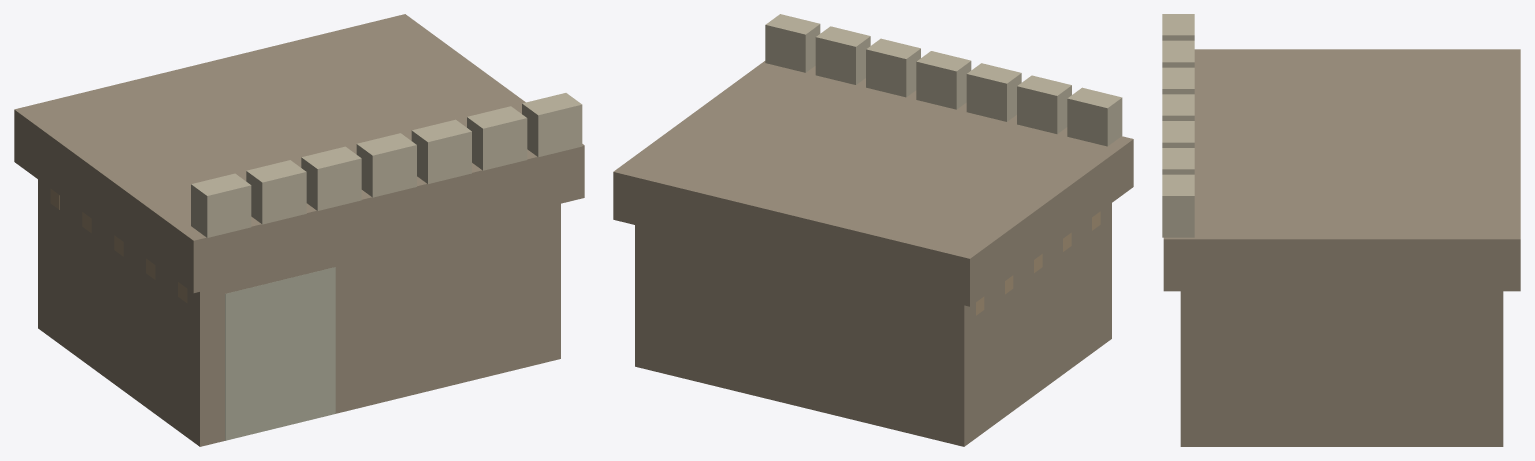
Rendered from armoured-column-and-field-camp-dugout-eb384ef0__23707.glb.
The picture shows the model from 3 angles, left to right: view 1: azimuth 30°, elevation 25°; view 2: azimuth 150°, elevation 25°; view 3: azimuth 270°, elevation 25°; orthographic projection. The views are drawn at different scales.
Parts seen in each view (by area): view 1: dugout; view 2: dugout; view 3: dugout.
Part boxes in pixels (bbox=[...]): dugout: bbox=[14, 14, 584, 446]; dugout: bbox=[613, 14, 1133, 446]; dugout: bbox=[1162, 14, 1520, 446].
Size of the model in its own units: 3.9 by 2.46 by 3.11.
